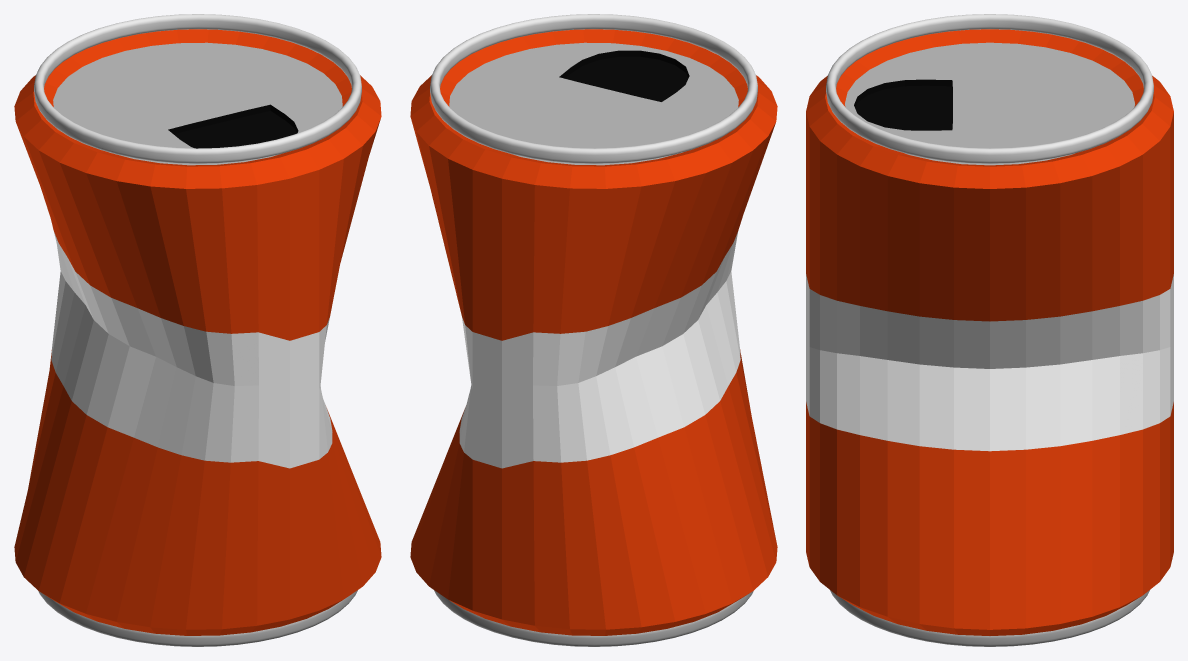
Rendered from Can.fbx.
The picture shows the model from 3 angles, left to right: view 1: azimuth 30°, elevation 25°; view 2: azimuth 150°, elevation 25°; view 3: azimuth 270°, elevation 25°; orthographic projection.
Parts seen in each view (by area): view 1: Cylinder, BezierCircle, BezierCircle.001; view 2: Cylinder, BezierCircle, BezierCircle.001; view 3: Cylinder, BezierCircle, BezierCircle.001.
Part boxes in pixels (bbox=[...]): Cylinder: bbox=[14, 29, 381, 635]; BezierCircle: bbox=[34, 14, 361, 163]; BezierCircle.001: bbox=[38, 590, 357, 646]; Cylinder: bbox=[410, 29, 777, 635]; BezierCircle: bbox=[430, 14, 757, 163]; BezierCircle.001: bbox=[434, 590, 753, 646]; Cylinder: bbox=[806, 29, 1173, 635]; BezierCircle: bbox=[826, 14, 1153, 163]; BezierCircle.001: bbox=[830, 590, 1149, 646].
Size of the model in its own units: 172 by 257 by 172.
